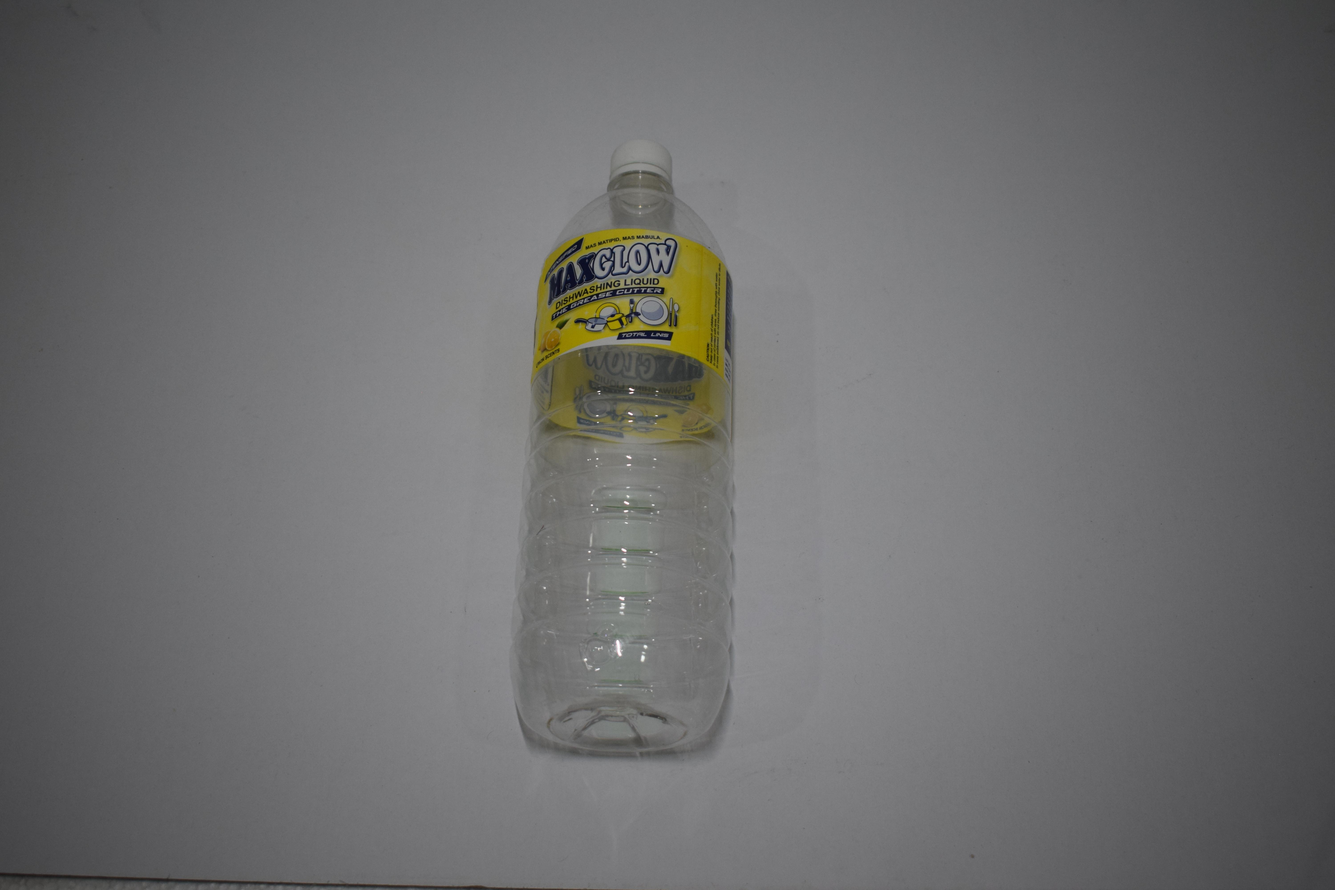plastic: (515, 140, 736, 754)
